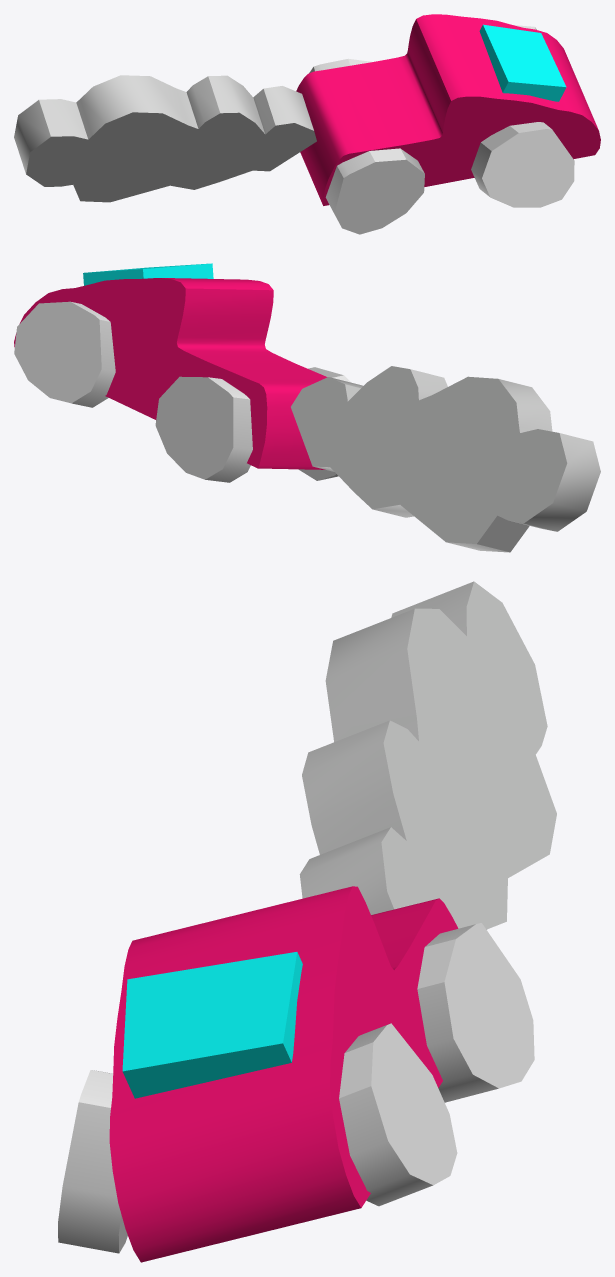
3 views of the same model, one above another, from view 1: azimuth 30°, elevation 25°; view 2: azimuth 150°, elevation 25°; view 3: azimuth 270°, elevation 25° (orthographic). The views are drawn at different scales.
Visible parts, largest first — view 1: Object_3, Object_2, Object_5, Object_4; view 2: Object_2, Object_3, Object_5, Object_4; view 3: Object_3, Object_2, Object_5, Object_4.
Part boxes in pixels (bbox=[...]): Object_3: bbox=[296, 14, 600, 205]; Object_2: bbox=[14, 75, 316, 202]; Object_5: bbox=[309, 25, 574, 234]; Object_4: bbox=[479, 24, 566, 101]; Object_2: bbox=[291, 366, 600, 552]; Object_3: bbox=[14, 278, 327, 469]; Object_5: bbox=[14, 301, 350, 482]; Object_4: bbox=[83, 263, 213, 285]; Object_3: bbox=[109, 886, 458, 1262]; Object_2: bbox=[299, 581, 556, 929]; Object_5: bbox=[58, 923, 534, 1253]; Object_4: bbox=[122, 952, 302, 1098].
Bounding box in the file's own units: 0.3021 × 0.0936 × 0.1261.
